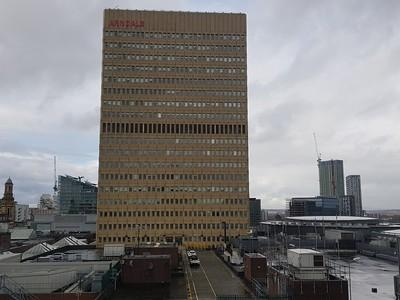building: (98, 9, 254, 258)
